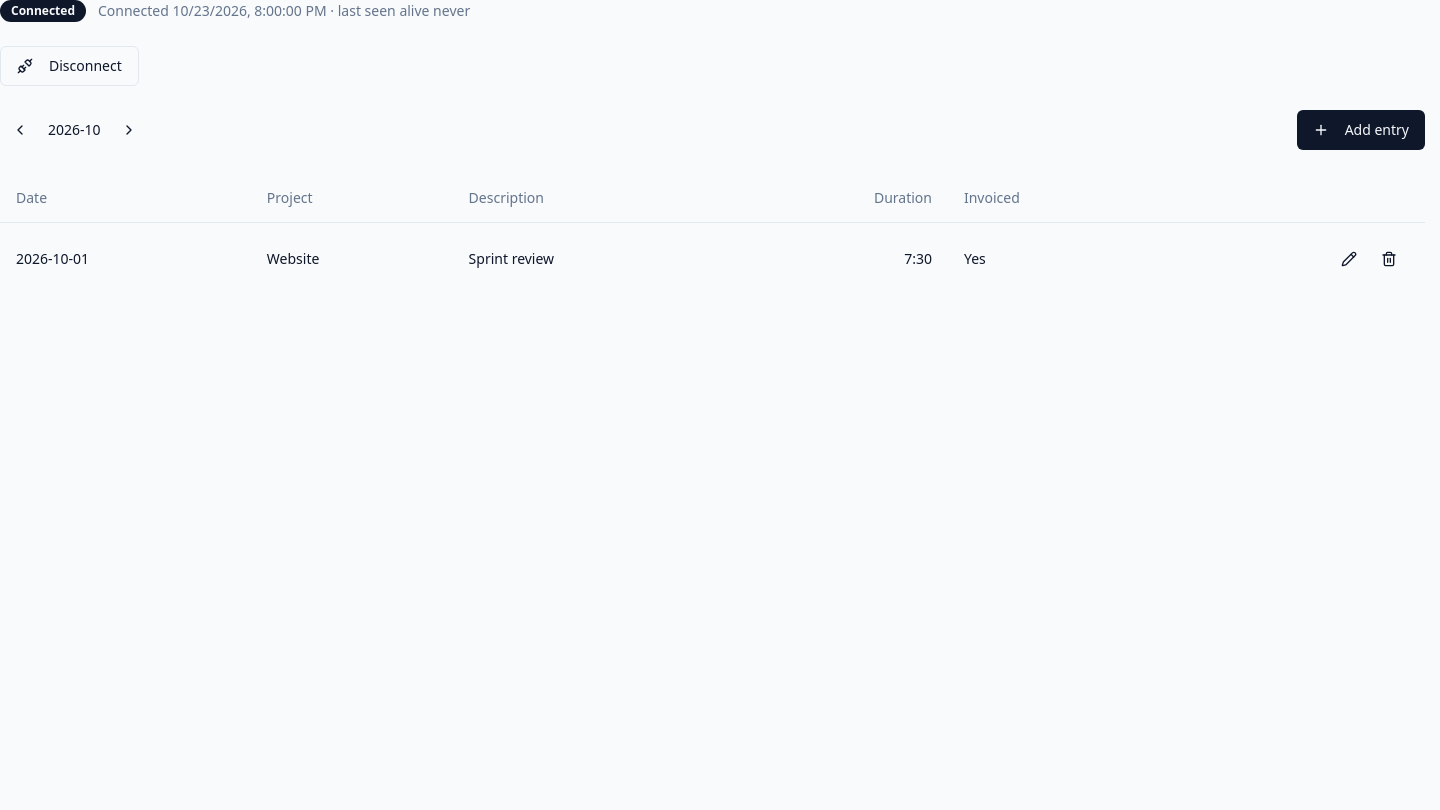
Test: MyZenPanel › when connected › offers a reconnect when the session expired during a change
Click the button named "Delete entry of 2026-10-01" at {"x": 1389, "y": 258}, box [1369,238,1409,278]
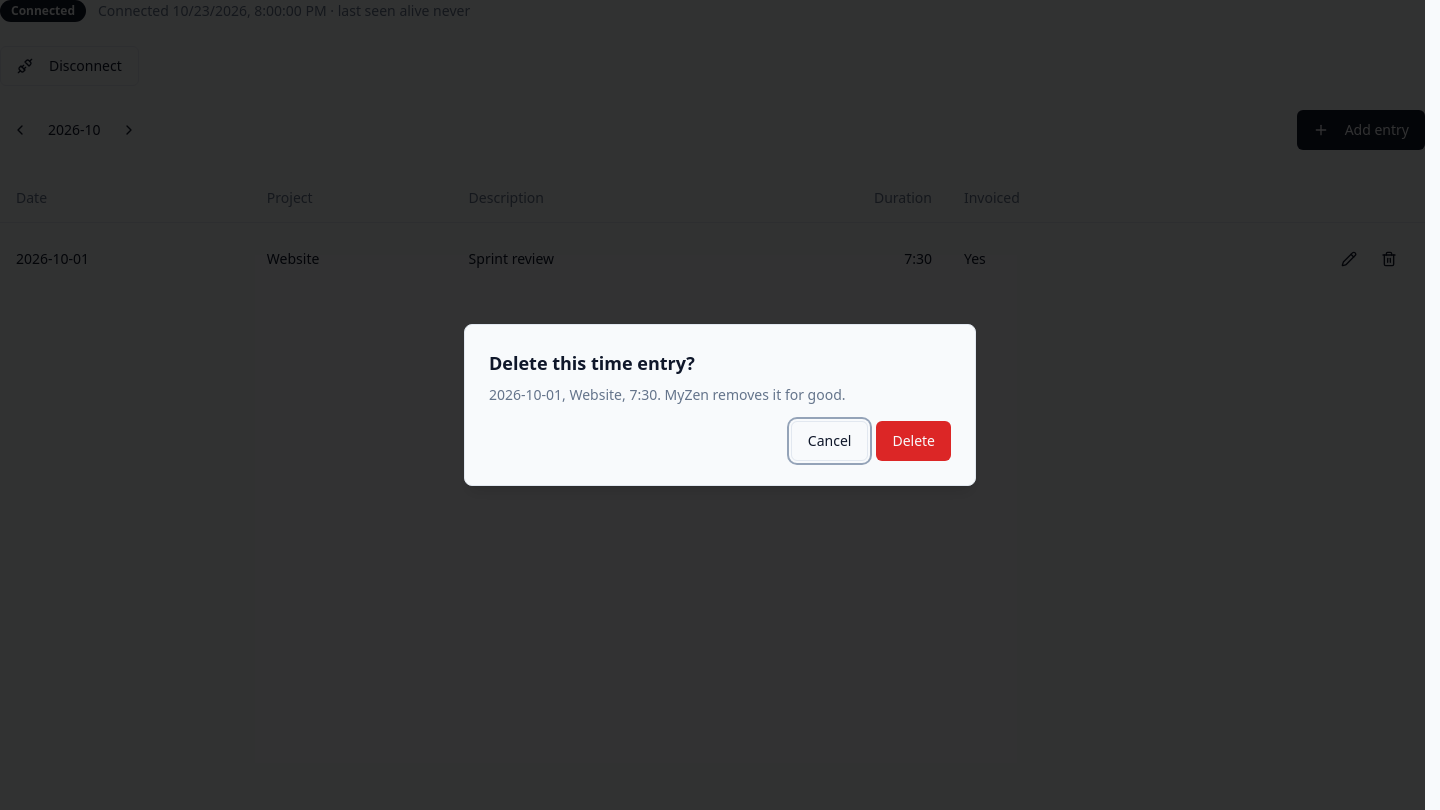
Click the button "Delete" at {"x": 914, "y": 441}, box [876,421,951,461]
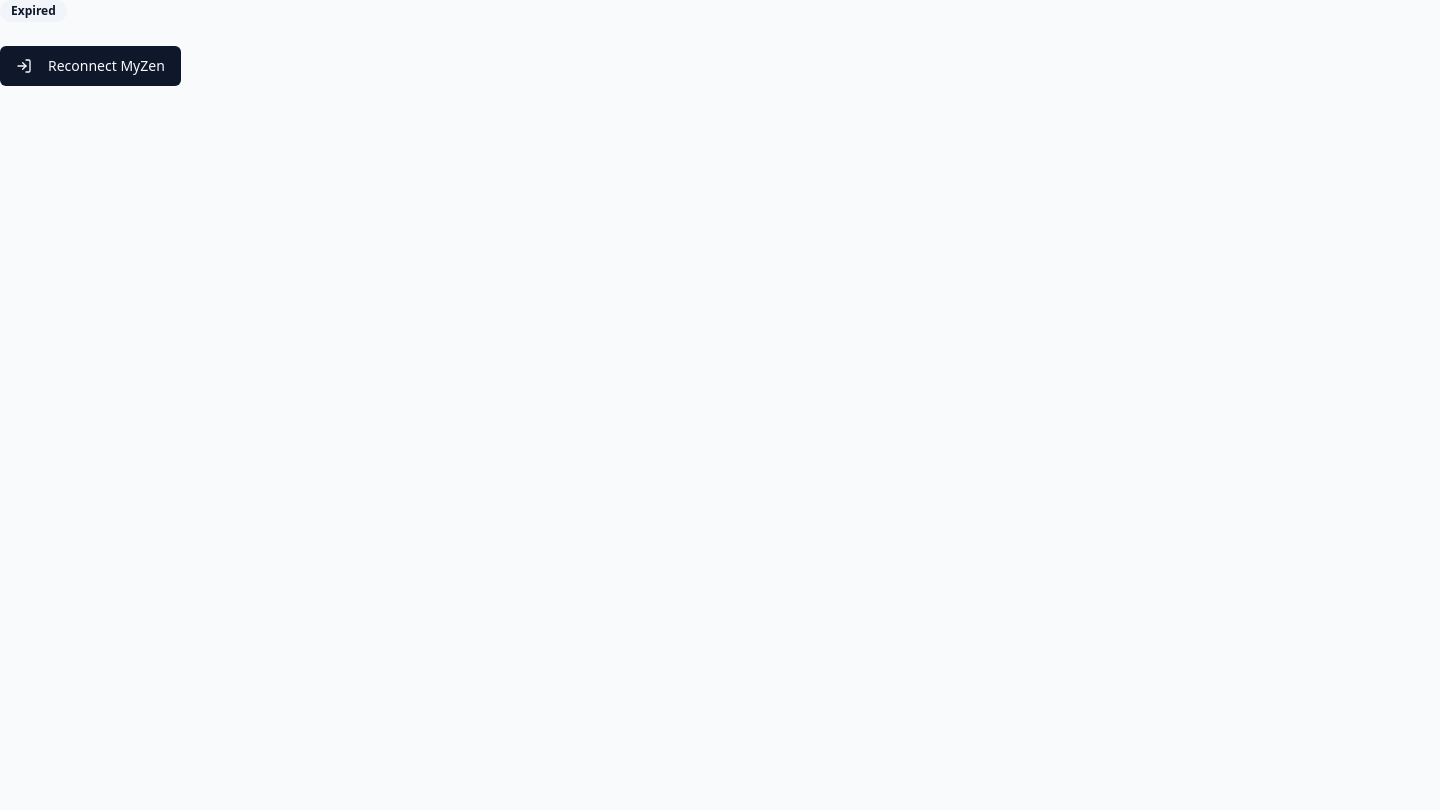
Check: the button "Reconnect MyZen" is shown, box [0,46,181,86]
